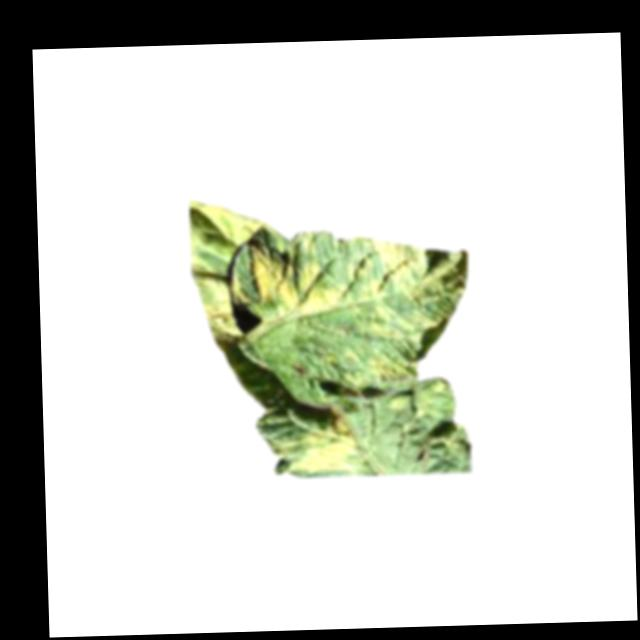Leaf_Mold: (249, 229, 340, 319), (261, 403, 367, 475), (364, 236, 431, 300), (202, 297, 242, 348), (369, 352, 412, 386)
